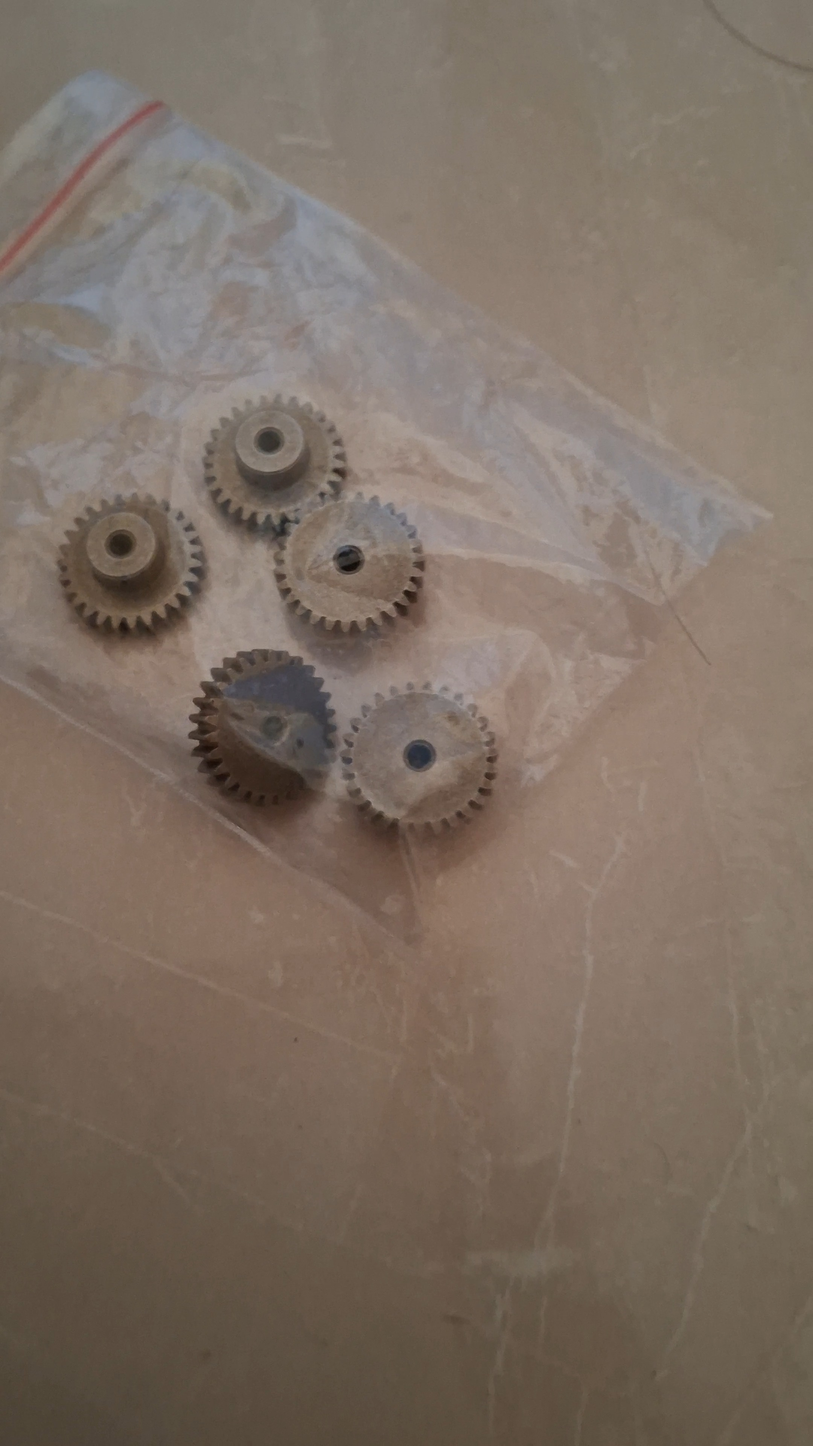spur gear: (343, 684, 496, 831), (189, 649, 335, 803), (276, 493, 424, 632), (59, 494, 204, 632), (204, 395, 346, 532)
